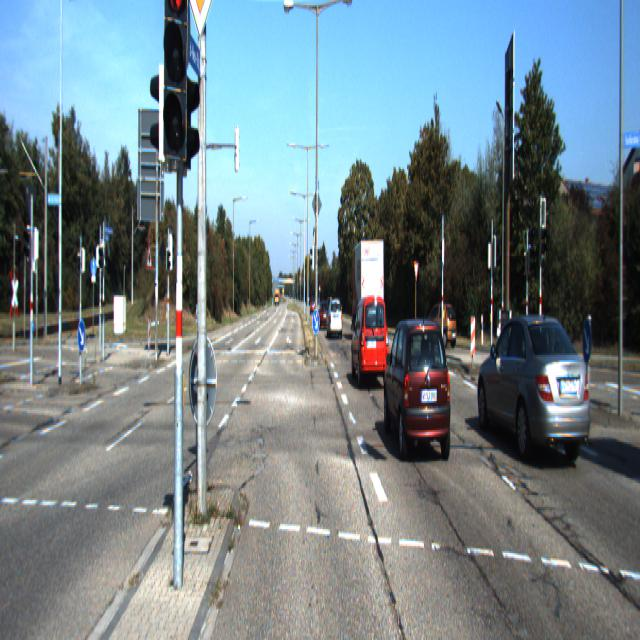Car: (476, 310, 595, 473), (384, 314, 454, 468), (351, 291, 389, 393), (351, 236, 384, 342), (422, 300, 458, 348), (327, 298, 342, 339)
